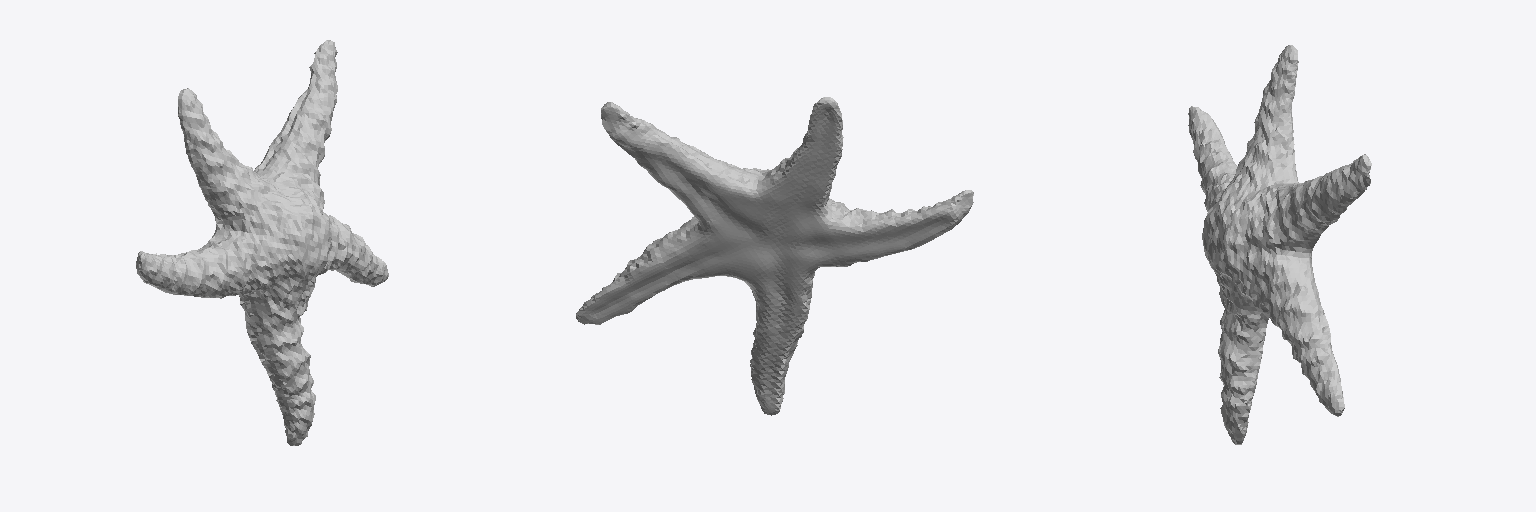
Rendered from star1.obj.
The picture shows the model from 3 angles: view 1: azimuth 30°, elevation 25°; view 2: azimuth 150°, elevation 25°; view 3: azimuth 270°, elevation 25°; orthographic projection.
Visible parts, largest first — view 1: stella_LOW_stella.002; view 2: stella_LOW_stella.002; view 3: stella_LOW_stella.002.
Boxes of the visible parts, x1,y1,x2,y2 form: stella_LOW_stella.002: [136, 40, 388, 445]; stella_LOW_stella.002: [576, 97, 973, 415]; stella_LOW_stella.002: [1188, 45, 1371, 444].
Size of the model in its own units: 1.37 by 1.45 by 0.6743.